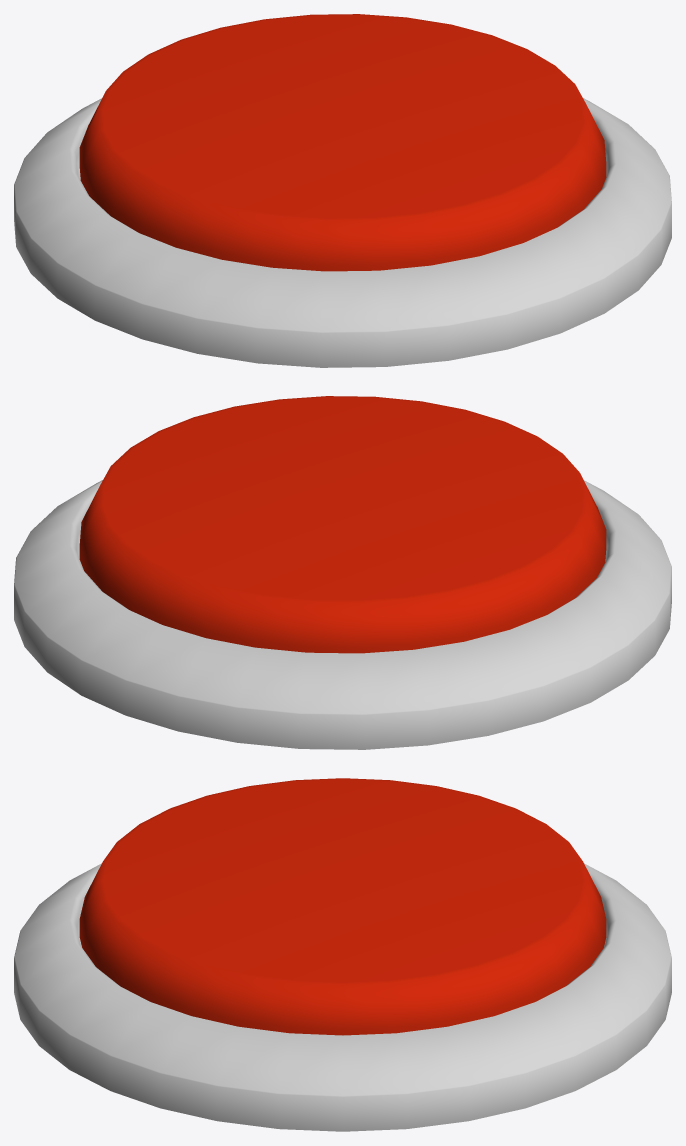
File: Button001.fbx
The picture shows the model from 3 angles, top to bottom: view 1: azimuth 30°, elevation 25°; view 2: azimuth 150°, elevation 25°; view 3: azimuth 270°, elevation 25°; orthographic projection.
Parts seen in each view (by area): view 1: Cylinder; view 2: Cylinder; view 3: Cylinder.
Part boxes in pixels (<box>): Cylinder: <box>14,14,671,367</box>; Cylinder: <box>14,396,671,749</box>; Cylinder: <box>14,778,671,1131</box>.
Size of the model in its own units: 320 by 60 by 320.
